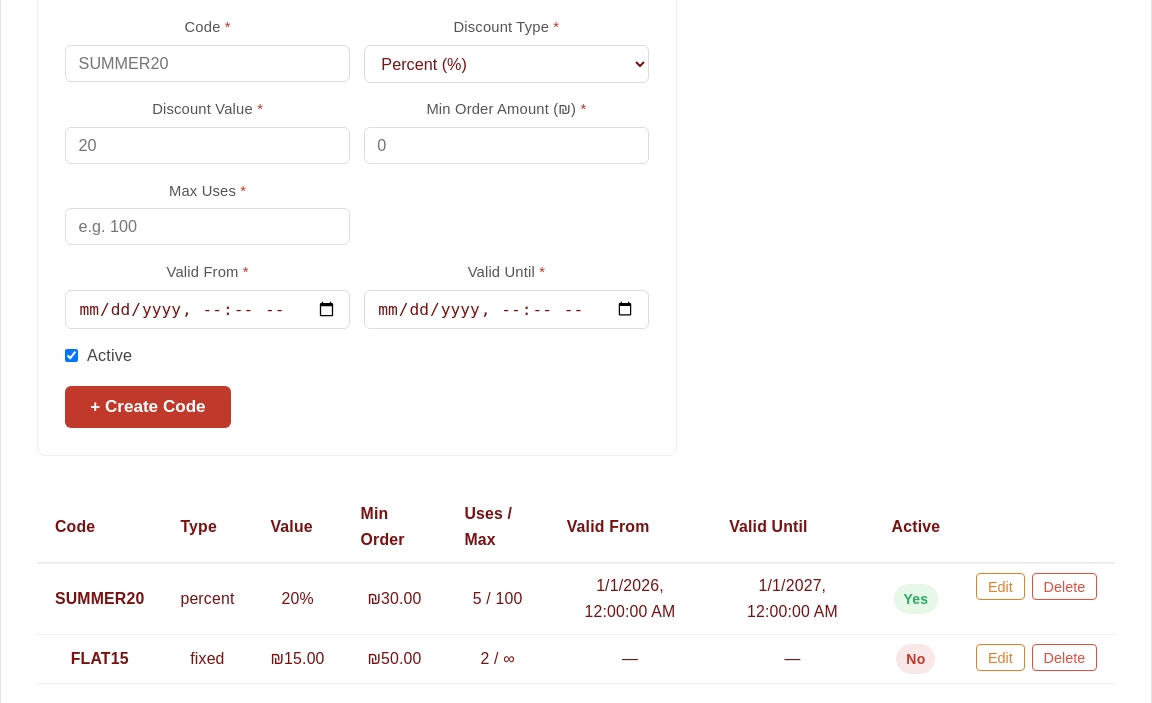
Scenario: OwnerPromoCodes › shows success message after code is updated
(page scrolled)
Expected: the text "SUMMER20" is shown, top-left (55, 590), bottom-right (144, 607)
Click the button "Edit" in the row of "SUMMER20" at [1000, 587], box top-left (976, 573), bottom-right (1025, 600)
(page scrolled)
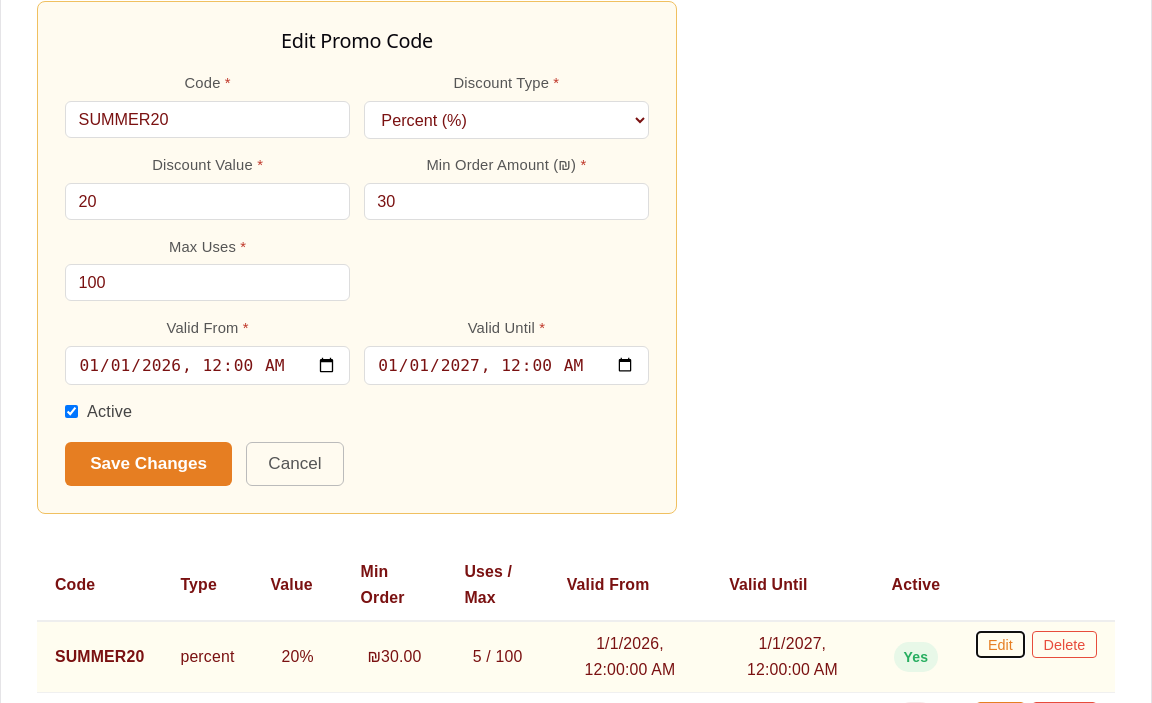
Click the button "Save Changes" at [149, 464], box top-left (65, 442), bottom-right (232, 486)
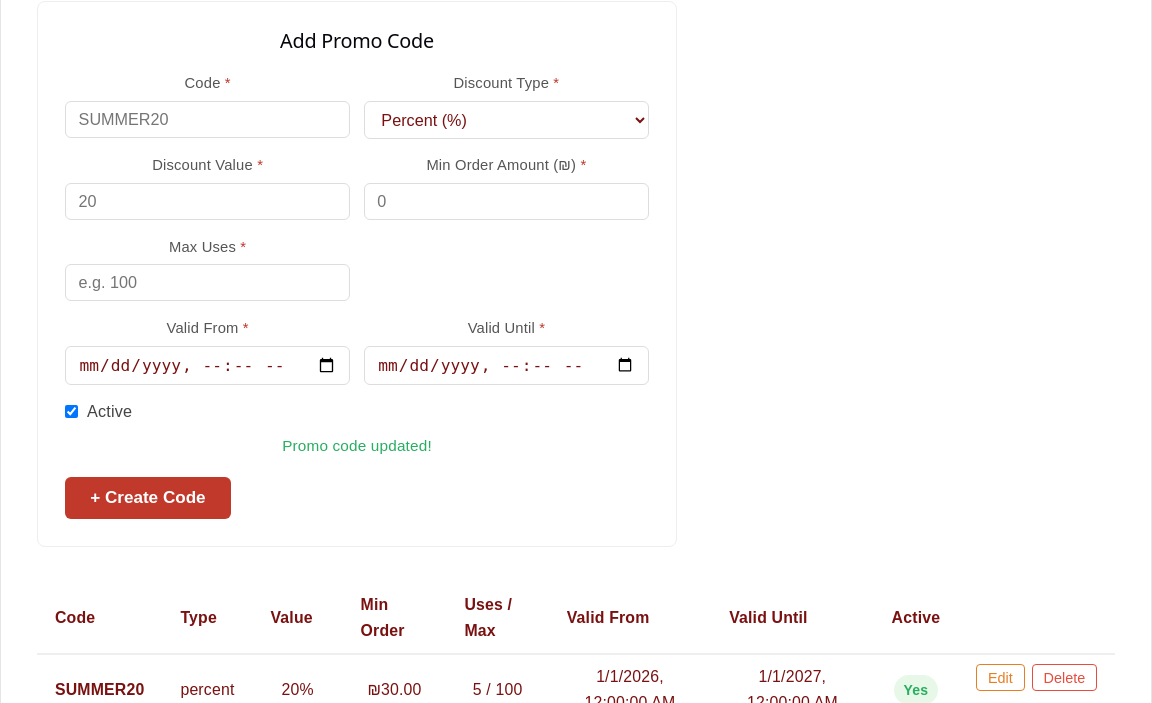
Expected: the text "Promo code updated!" is shown, top-left (282, 437), bottom-right (432, 454)
